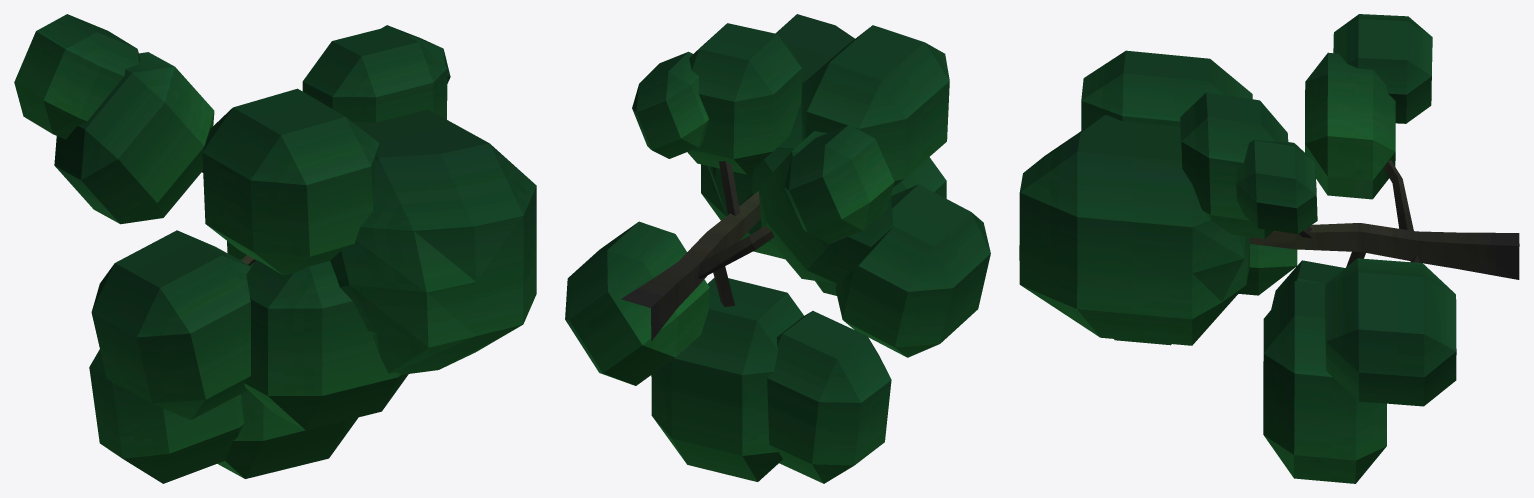
File: kts_014.gltf
The picture shows the model from 3 angles, left to right: view 1: azimuth 30°, elevation 25°; view 2: azimuth 150°, elevation 25°; view 3: azimuth 270°, elevation 25°; orthographic projection. The views are drawn at different scales.
Bounding box in the file's own units: 19.52 × 23.23 × 27.36.
1 material, 1 textured.
